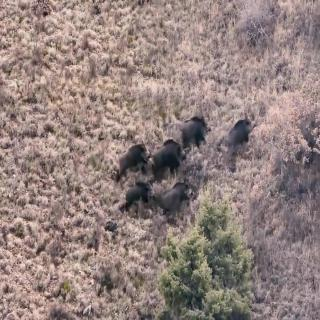Pig: (119, 172, 156, 223), (181, 106, 214, 154), (151, 138, 187, 182), (158, 183, 203, 218), (221, 116, 263, 153), (110, 134, 152, 171)
